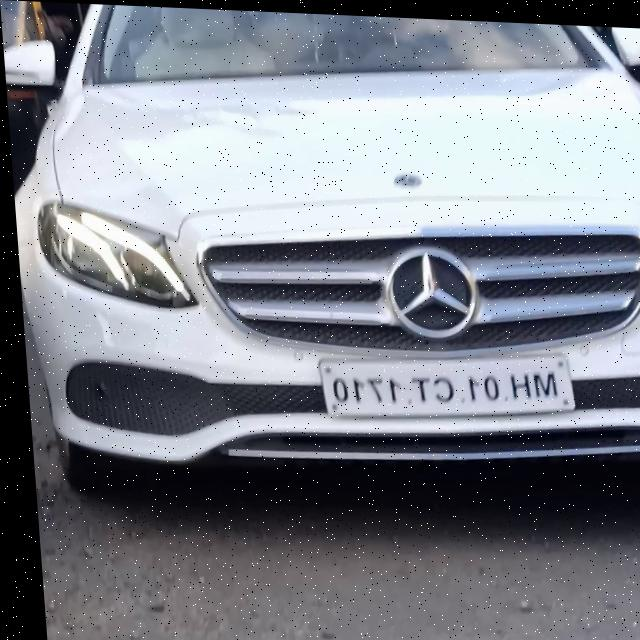plate: (310, 333, 578, 433)
